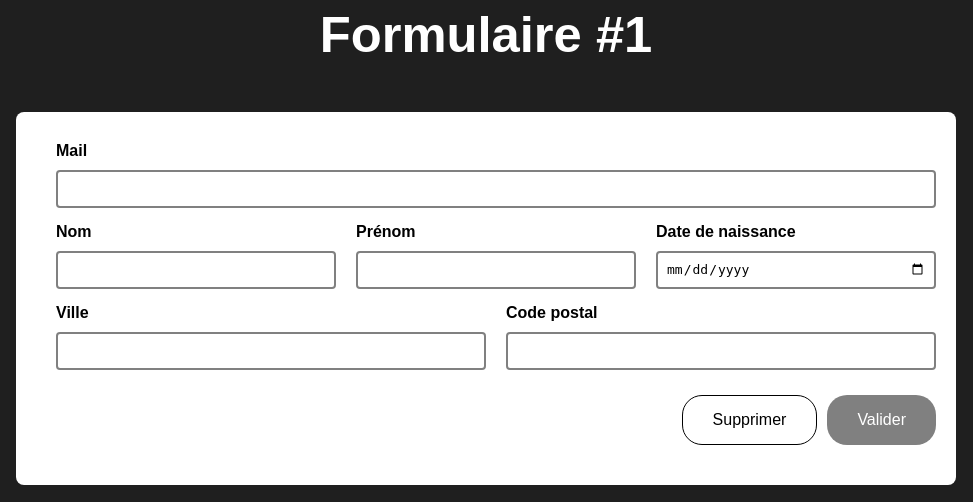
it: Validation de la soumission du formulaire › active le bouton de soumission si les champs requis sont remplis
In the field with test id "Nom": (196, 270) x1=56 y1=251 x2=336 y2=289, type "Pessione"
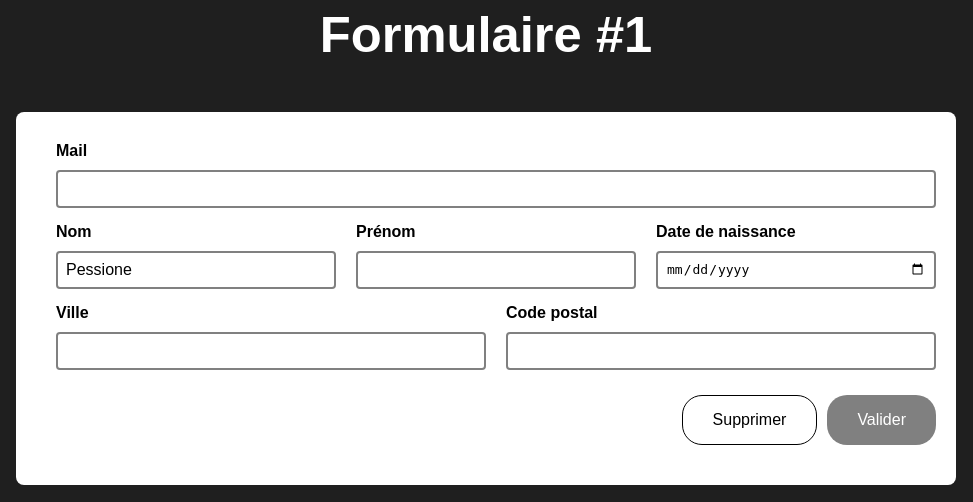
In the field with test id "Prénom": (496, 270) x1=356 y1=251 x2=636 y2=289, type "Julien"
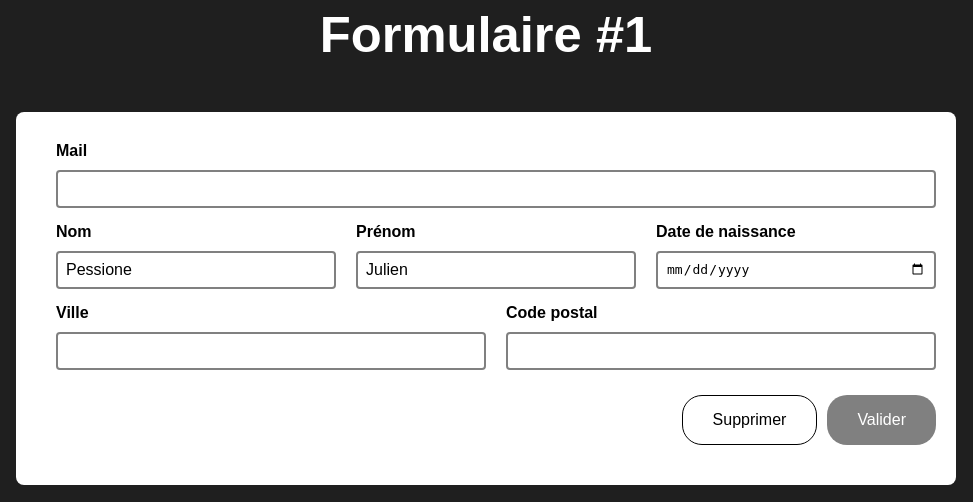
In the field with test id "Mail": (496, 189) x1=56 y1=170 x2=936 y2=208, type "julien.pessione83@gmail.com"
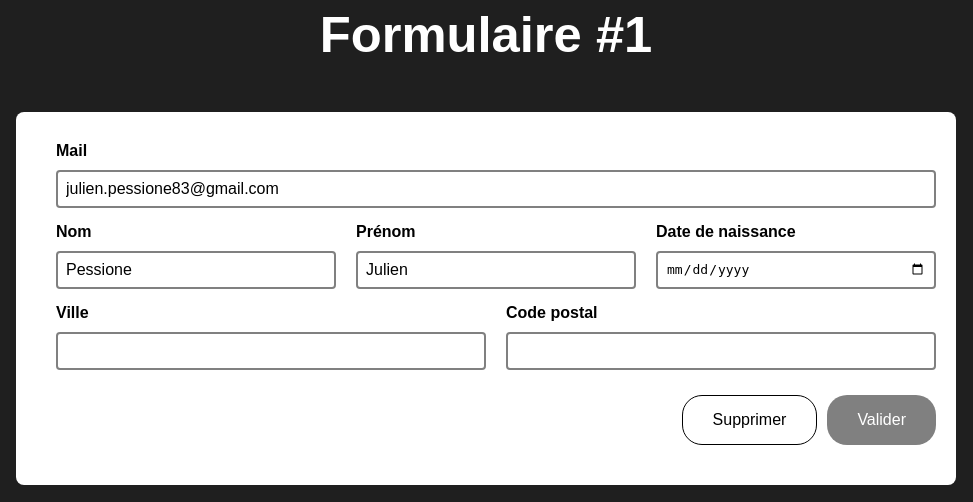
In the date field with test id "dateNaissance": (796, 270) x1=656 y1=251 x2=936 y2=289, type "1983-11-01"
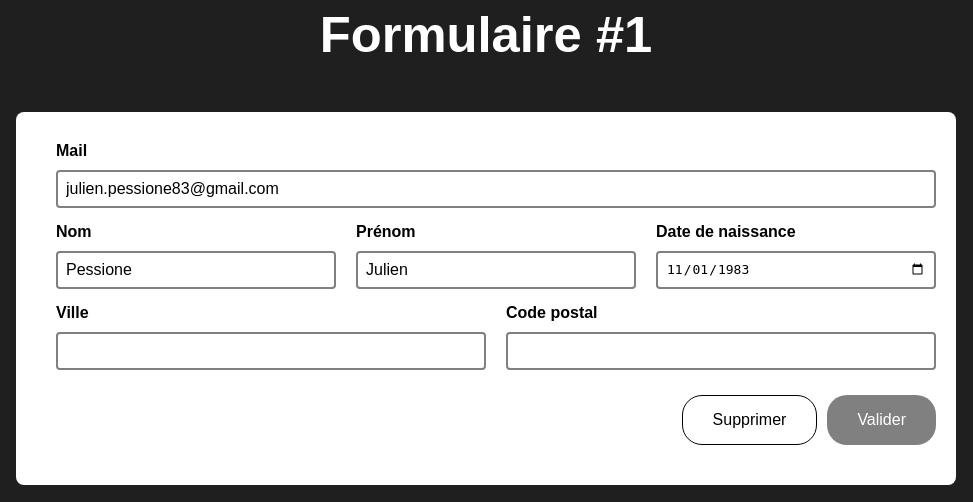
In the field with test id "Code postal": (721, 351) x1=506 y1=332 x2=936 y2=370, type "83000"
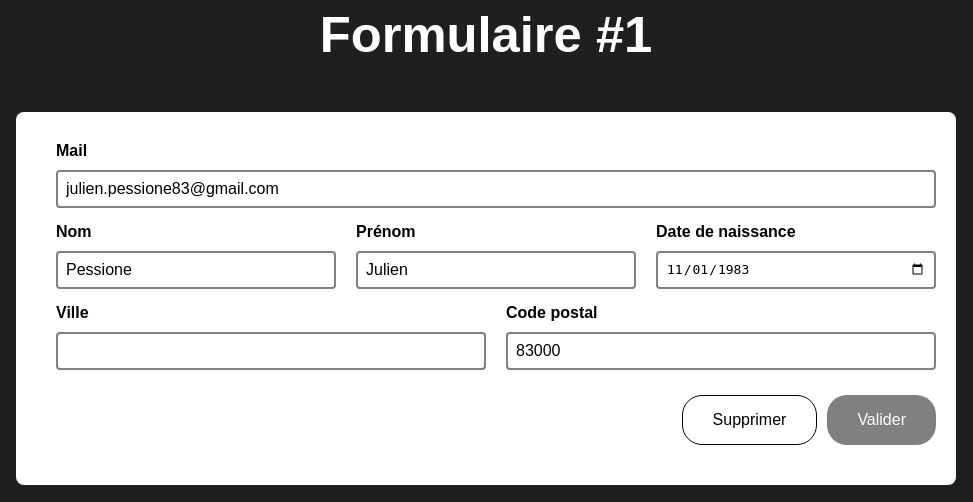
In the field with test id "Ville": (271, 351) x1=56 y1=332 x2=486 y2=370, type "Toulon"
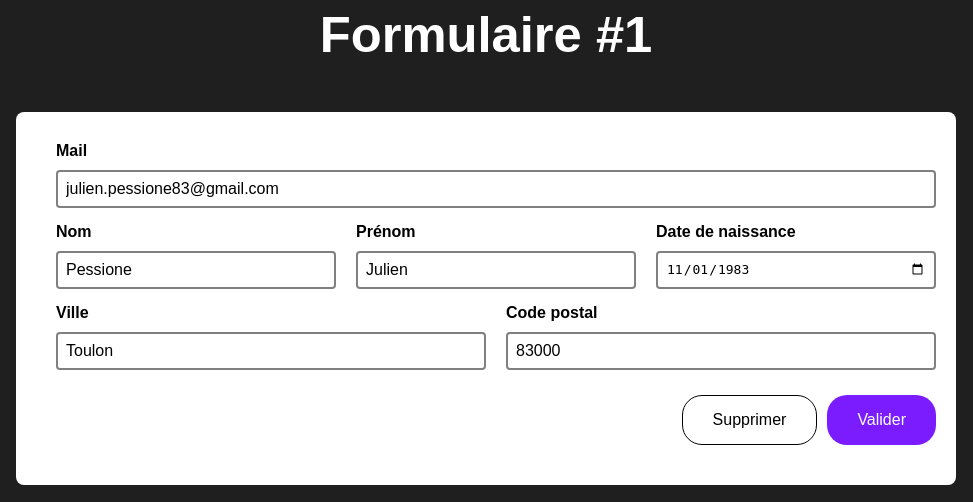
expect the button with test id "submitButton" showing "Valider" is enabled: met, box x1=827 y1=395 x2=936 y2=445
